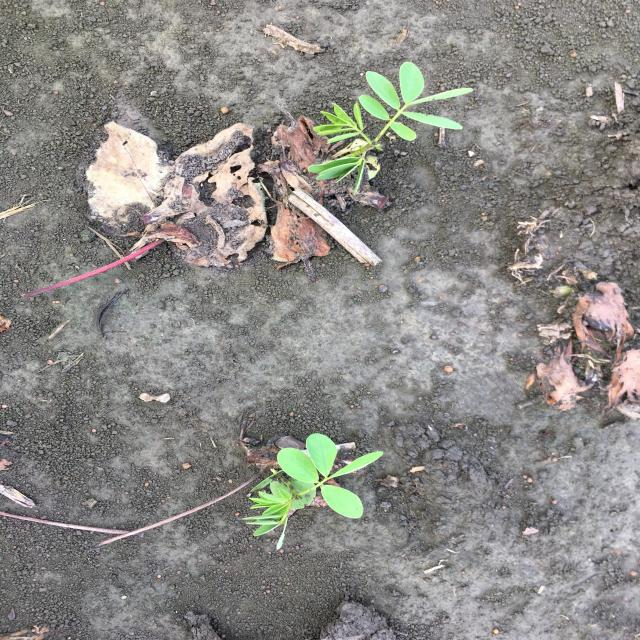Sicklepod: (305, 61, 478, 198), (238, 430, 387, 550)
